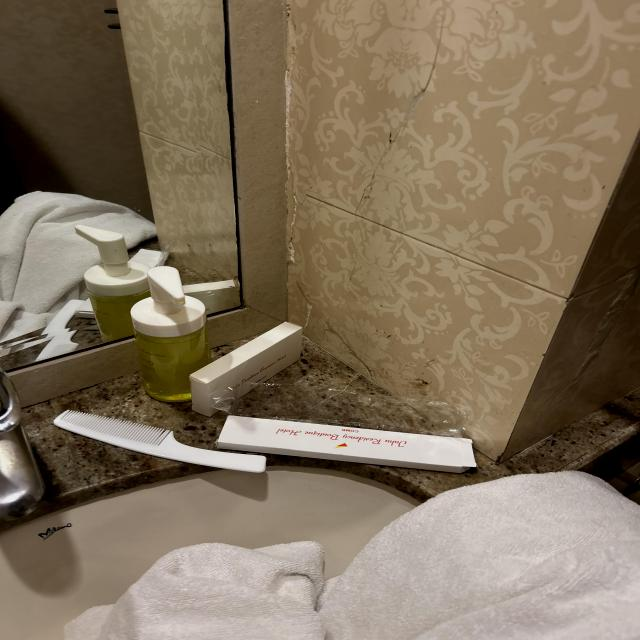mess: (0, 284, 640, 640)
